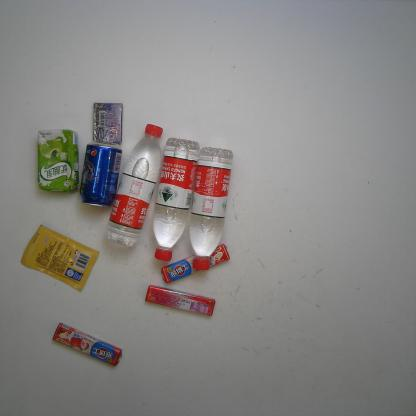Candy: (50, 321, 125, 366), (160, 244, 232, 283), (143, 284, 217, 317)
Drink: (104, 123, 163, 248), (151, 137, 200, 262), (188, 145, 234, 270), (79, 140, 123, 208)
Gum: (92, 102, 123, 144)
Milk: (36, 128, 79, 192)
Seasoner: (21, 223, 101, 292)
